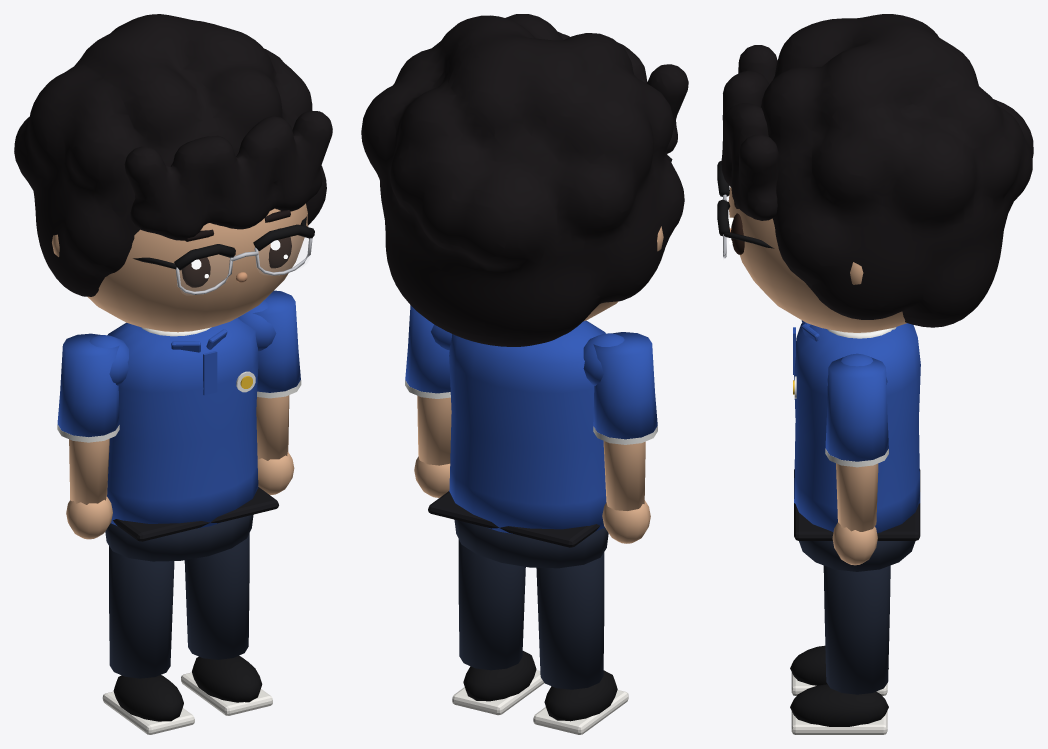
Rendered from joung_lrt.glb.
3 views of the same model, side by side, from view 1: azimuth 30°, elevation 25°; view 2: azimuth 150°, elevation 25°; view 3: azimuth 270°, elevation 25° (orthographic). The views are drawn at different scales.
Visible parts, largest first — view 1: joung_hair_main, joung_uniform_body, joung_hair_fringe, joung_head, joung_legR, joung_legL, joung_sleeveR, joung_hips, joung_sleeveL, joung_shoeR, joung_shoeL, joung_armR (+12 smaller); view 2: joung_hair_main, joung_uniform_body, joung_legR, joung_legL, joung_sleeveR, joung_hips, joung_sleeveL, joung_armR, joung_armL, joung_shoeR, joung_shoeL, joung_belt (+6 smaller); view 3: joung_hair_main, joung_uniform_body, joung_legL, joung_hair_fringe, joung_sleeveL, joung_head, joung_shoeL, joung_armL, joung_hips, joung_belt, joung_handL, joung_soleL (+1 smaller).
Part boxes in pixels (bbox=[...]): joung_hair_main: bbox=[14, 14, 326, 296]; joung_uniform_body: bbox=[107, 318, 258, 528]; joung_hair_fringe: bbox=[124, 110, 332, 240]; joung_head: bbox=[87, 203, 308, 332]; joung_legR: bbox=[109, 546, 174, 678]; joung_legL: bbox=[184, 533, 249, 659]; joung_sleeveR: bbox=[57, 333, 119, 437]; joung_hips: bbox=[105, 514, 253, 561]; joung_sleeveL: bbox=[253, 290, 300, 392]; joung_shoeR: bbox=[113, 675, 183, 721]; joung_shoeL: bbox=[192, 656, 262, 702]; joung_armR: bbox=[69, 438, 109, 504]; joung_hair_main: bbox=[361, 14, 684, 346]; joung_uniform_body: bbox=[449, 320, 606, 533]; joung_legR: bbox=[536, 552, 604, 689]; joung_legL: bbox=[458, 539, 525, 670]; joung_sleeveR: bbox=[593, 332, 657, 439]; joung_hips: bbox=[454, 519, 608, 568]; joung_sleeveL: bbox=[405, 305, 450, 393]; joung_armR: bbox=[603, 441, 645, 510]; joung_armL: bbox=[417, 395, 451, 465]; joung_shoeR: bbox=[544, 670, 617, 721]; joung_shoeL: bbox=[463, 651, 536, 701]; joung_belt: bbox=[428, 491, 599, 547]; joung_hair_main: bbox=[761, 14, 1033, 327]; joung_uniform_body: bbox=[794, 323, 920, 533]; joung_legL: bbox=[823, 565, 890, 694]; joung_hair_fringe: bbox=[721, 45, 778, 220]; joung_sleeveL: bbox=[825, 357, 888, 461]; joung_head: bbox=[728, 187, 906, 332]; joung_shoeL: bbox=[790, 684, 888, 726]; joung_armL: bbox=[836, 463, 878, 531]; joung_hips: bbox=[799, 541, 915, 571]; joung_belt: bbox=[794, 469, 920, 540]; joung_handL: bbox=[832, 522, 877, 565]; joung_soleL: bbox=[791, 710, 887, 734].
Size of the model in its own units: 0.5916 by 1.48 by 0.6263.
